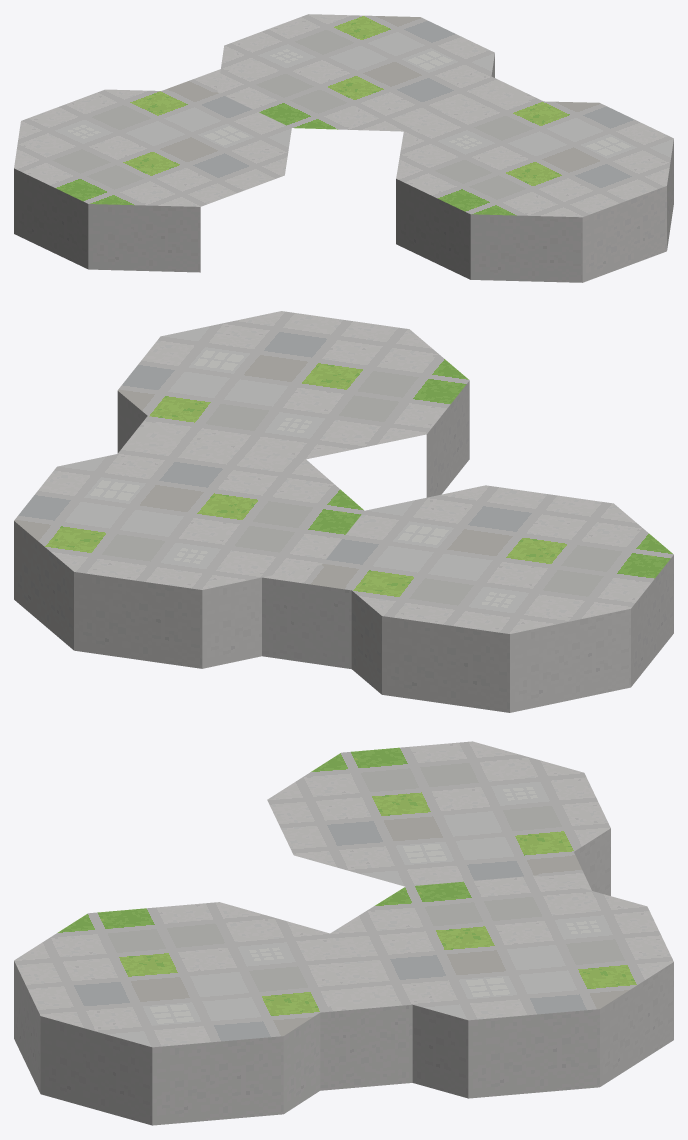
The model's file is kd_stage_1366d7_12_1_bounded.glb.
3 views of the same model, one above another, from view 1: azimuth 30°, elevation 25°; view 2: azimuth 150°, elevation 25°; view 3: azimuth 270°, elevation 25° (orthographic). The views are drawn at different scales.
Parts seen in each view (by area): view 1: kd_stage_1366d7_12_1_bounded; view 2: kd_stage_1366d7_12_1_bounded; view 3: kd_stage_1366d7_12_1_bounded.
Part boxes in pixels (x1,y1,x2,y2): kd_stage_1366d7_12_1_bounded: [14, 14, 673, 282]; kd_stage_1366d7_12_1_bounded: [14, 311, 673, 712]; kd_stage_1366d7_12_1_bounded: [14, 741, 673, 1125].
Size of the model in its own units: 308 by 36.74 by 281.
Materials: 1 (1 with a texture image).
